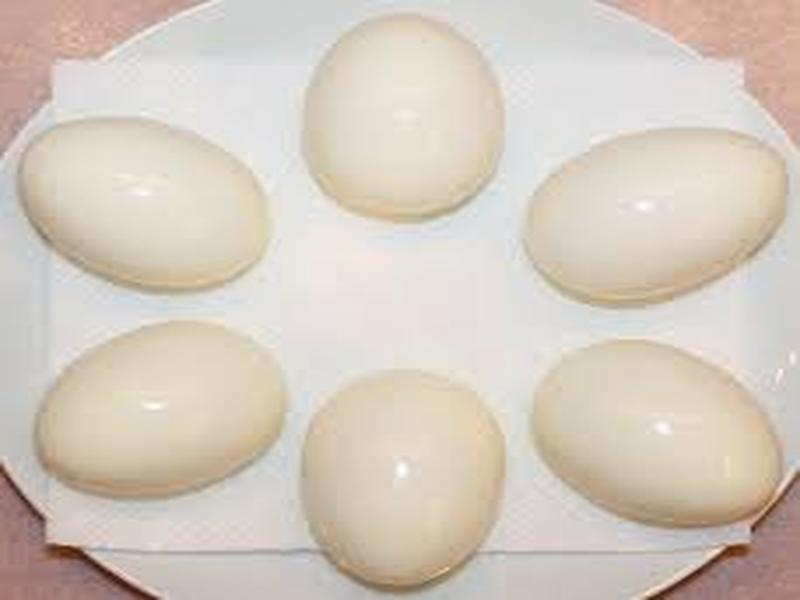egg: (8, 5, 793, 600)
